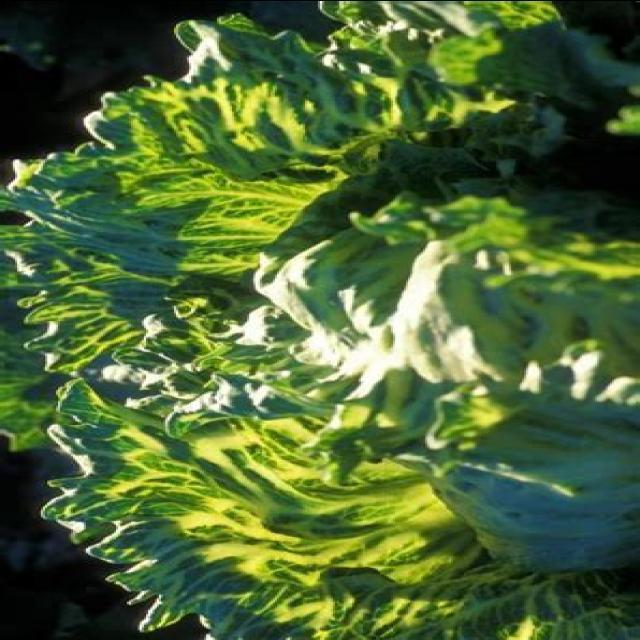Lettuce Mosaic Virus: (40, 37, 617, 613)
